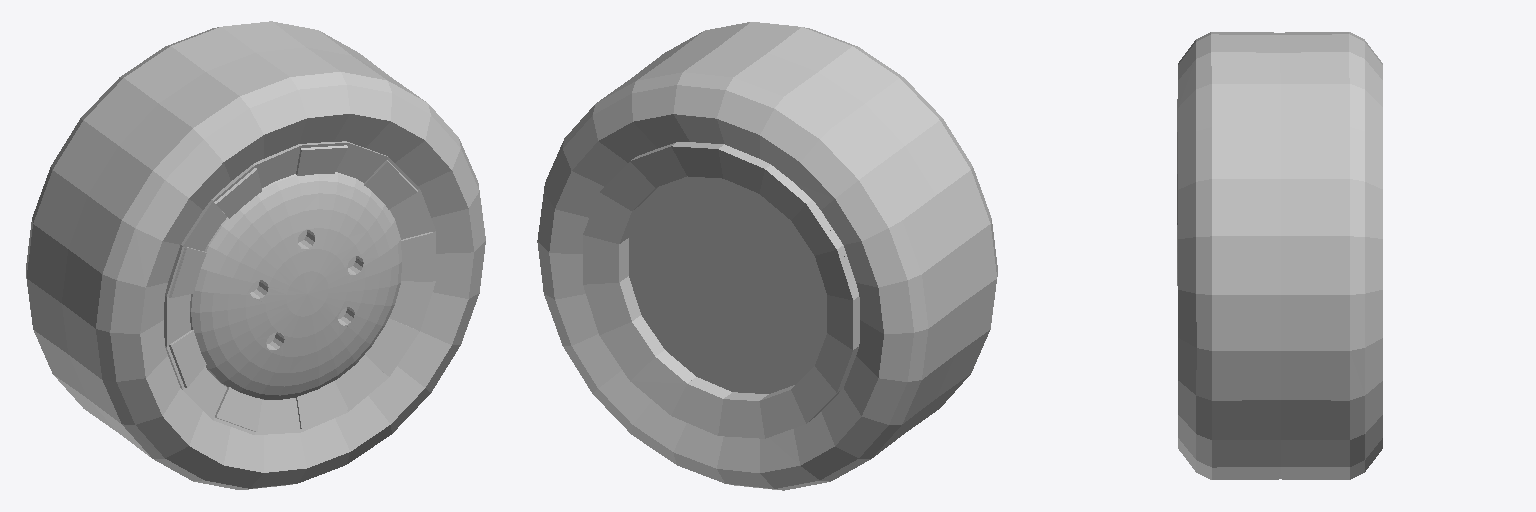
Rendered from rueda1.obj.
3 views of the same model, side by side, from view 1: azimuth 30°, elevation 25°; view 2: azimuth 150°, elevation 25°; view 3: azimuth 270°, elevation 25° (orthographic).
Parts seen in each view (by area): view 1: Torus01, Sphere01, Tube01, Tube02; view 2: Torus01, Cylinder01, Tube02, Tube01; view 3: Torus01.
Part boxes in pixels (x1,y1,x2,y2): Torus01: (26, 21, 485, 489); Sphere01: (190, 172, 401, 399); Tube01: (164, 141, 435, 434); Tube02: (169, 145, 432, 431); Torus01: (537, 22, 997, 490); Cylinder01: (629, 176, 826, 393); Tube02: (583, 142, 857, 438); Tube01: (624, 144, 859, 417); Torus01: (1177, 32, 1382, 479).
Bounding box in the file's own units: 0.9708 × 0.9702 × 0.4457.